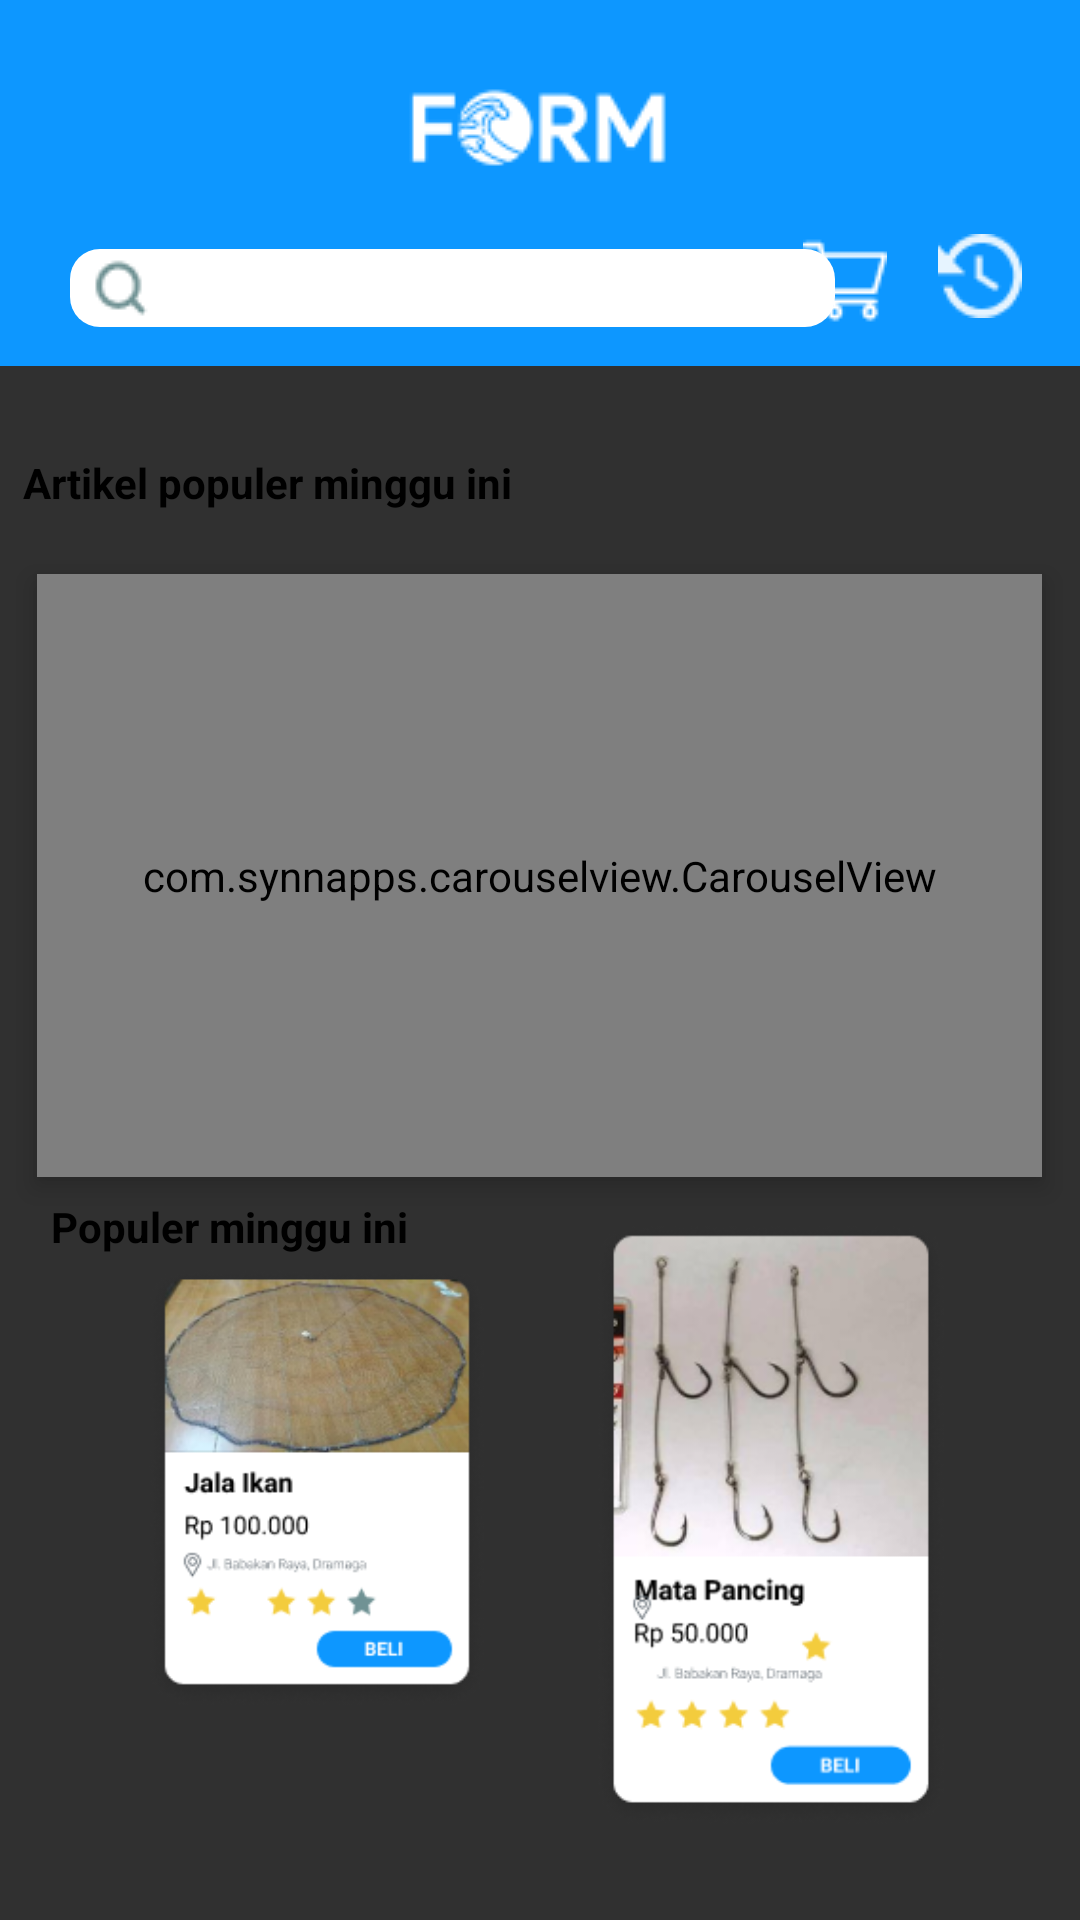

Icon bounding boxes for this 1080w x 1920h phone screenshot, format (x1, y1, x2, y2):
cart: (803, 240, 887, 327)
history: (938, 234, 1022, 318)
search: (95, 261, 146, 315)
